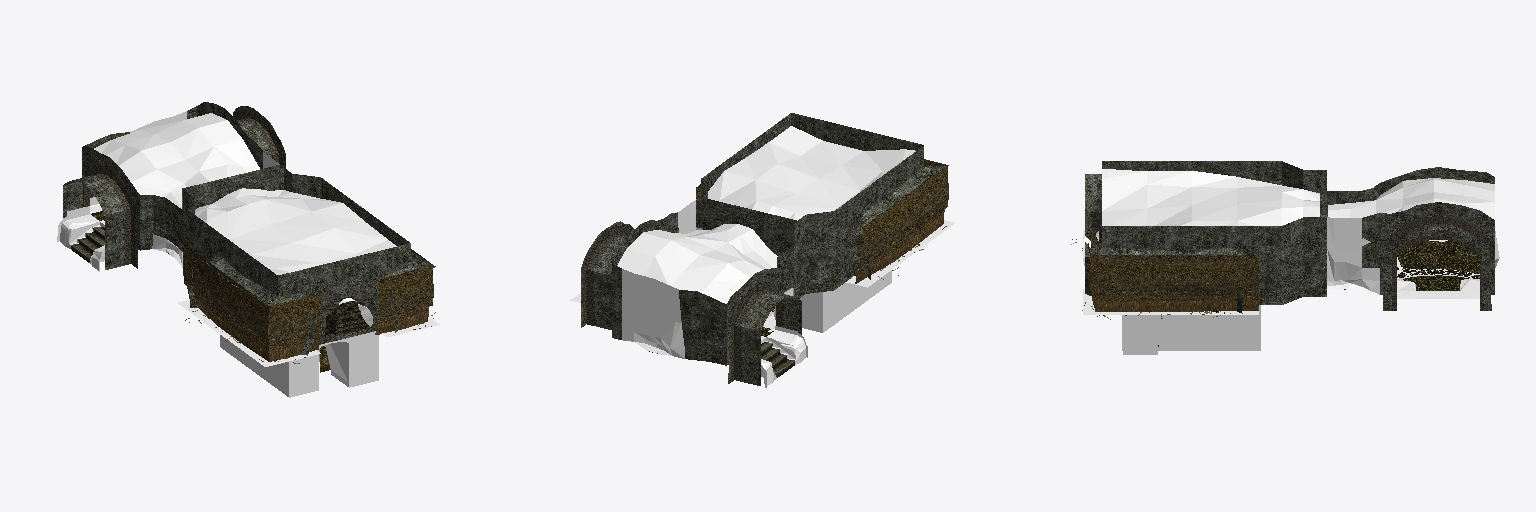
3 views of the same model, side by side, from view 1: azimuth 30°, elevation 25°; view 2: azimuth 150°, elevation 25°; view 3: azimuth 270°, elevation 25° (orthographic).
Parts seen in each view (by area): view 1: mesh3, mesh8, mesh0, mesh4, mesh7, mesh6, mesh16, mesh11, mesh17, mesh2; view 2: mesh3, mesh8, mesh0, mesh17, mesh4, mesh6, mesh7, mesh11, mesh2; view 3: mesh3, mesh8, mesh0, mesh4, mesh17, mesh13, mesh7, mesh6, mesh12.
Boxes of the visible parts, <box> form: mesh3: <box>63,102,435,355</box>; mesh8: <box>60,113,439,397</box>; mesh0: <box>195,188,396,274</box>; mesh4: <box>183,243,433,346</box>; mesh7: <box>187,287,428,361</box>; mesh6: <box>83,110,281,266</box>; mesh16: <box>329,301,370,335</box>; mesh11: <box>57,197,378,387</box>; mesh17: <box>130,111,279,267</box>; mesh2: <box>71,227,104,262</box>; mesh3: <box>593,113,948,385</box>; mesh8: <box>570,220,954,385</box>; mesh0: <box>708,126,915,220</box>; mesh17: <box>622,200,793,358</box>; mesh4: <box>696,159,948,268</box>; mesh6: <box>583,226,781,381</box>; mesh7: <box>855,209,944,283</box>; mesh11: <box>692,227,807,387</box>; mesh2: <box>761,342,794,377</box>; mesh3: <box>1085,161,1494,313</box>; mesh8: <box>1083,178,1494,350</box>; mesh0: <box>1102,169,1319,225</box>; mesh4: <box>1087,231,1258,296</box>; mesh17: <box>1324,217,1499,294</box>; mesh13: <box>1397,241,1479,290</box>; mesh7: <box>1092,296,1258,311</box>; mesh6: <box>1390,216,1486,310</box>; mesh12: <box>1383,177,1491,310</box>.
Bounding box in the file's own units: 8.88 × 6.33 × 16.19.
Materials: 20 (10 with a texture image).